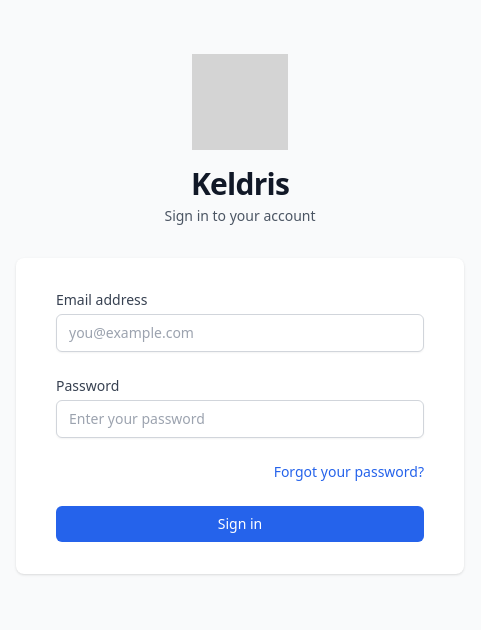
Scenario: LoginPage › shows generic error for unexpected server error (500)
The image size is (481, 630).
Type "user@test.com" into the field labelled "Email address".
click(240, 333); type("user@test.com")  # box [56,314,424,352]
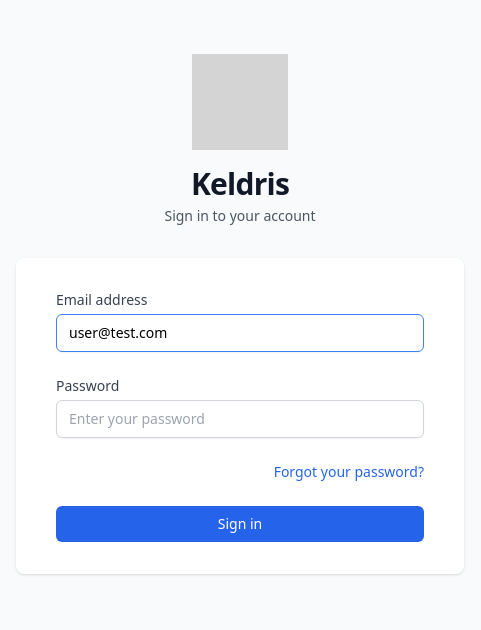
Type "password123" into the password field labelled "Password".
click(240, 419); type("password123")  # box [56,400,424,438]
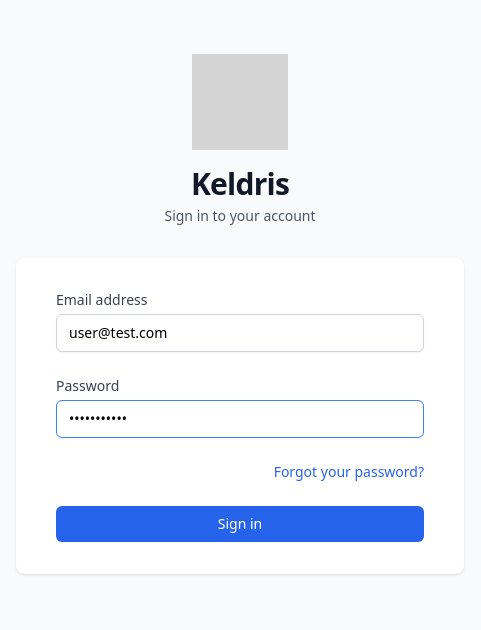
Click the button "Sign in".
click(240, 524)  # box [56,506,424,542]
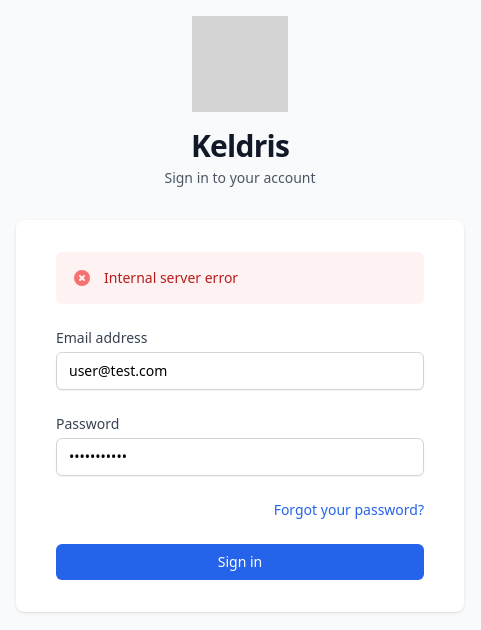
Result: the text "Internal server error" is shown at [104,268,238,288]
